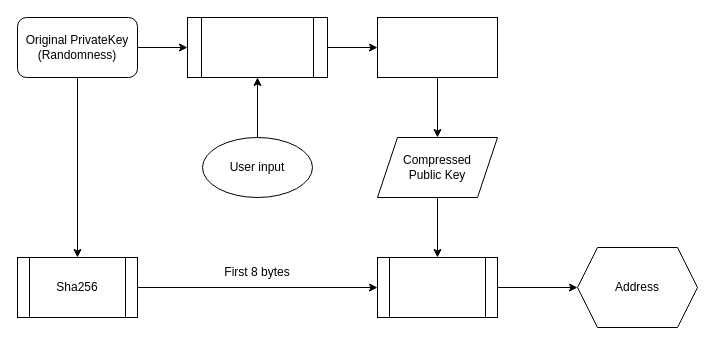
This 715x345 diagram has some shape labels left out. The shapes that lost their labels are listed below. From the top down, each one's box as (x1, y1, x2, y2) in pixels, then its label:
(186, 16, 328, 78): PBKDF2 HMAC<SHA512>
(376, 16, 498, 78): Hashed PrivateKey (SameLenght)
(376, 256, 498, 318): Address Creation
